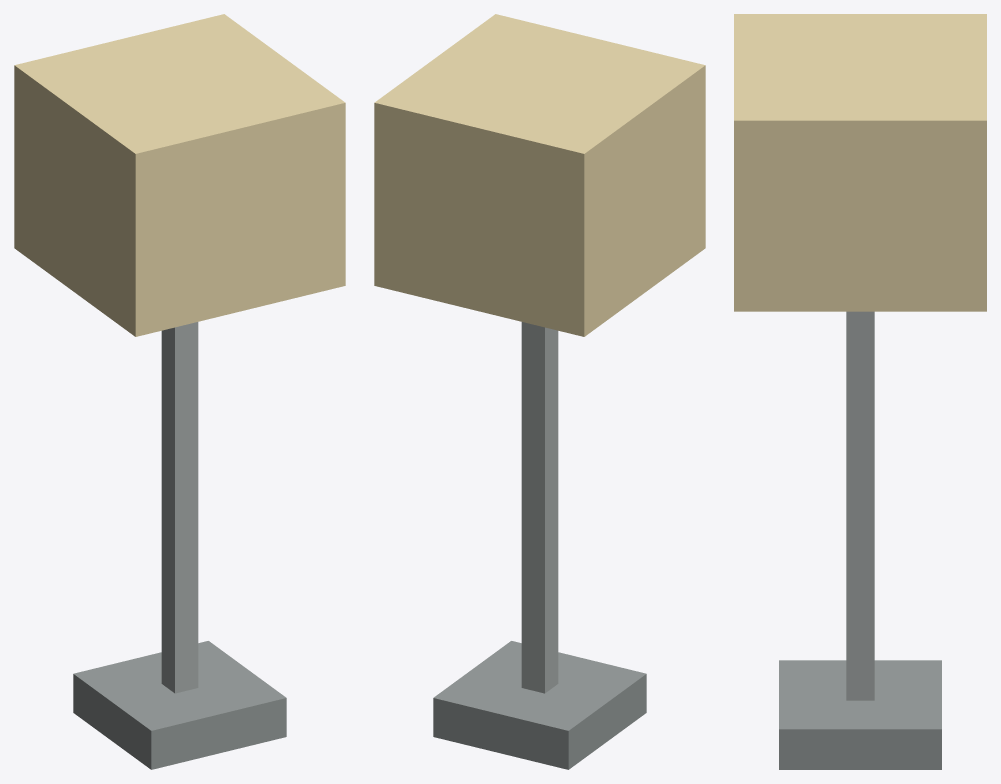
File: floor-lamp.glb
The picture shows the model from 3 angles, left to right: view 1: azimuth 30°, elevation 25°; view 2: azimuth 150°, elevation 25°; view 3: azimuth 270°, elevation 25°; orthographic projection. The views are drawn at different scales.
Parts seen in each view (by area): view 1: lamp-shade, lamp-base, lamp-post; view 2: lamp-shade, lamp-base, lamp-post; view 3: lamp-shade, lamp-base, lamp-post.
Part boxes in pixels (<box>): lamp-shade: <box>14,14,345,336</box>; lamp-base: <box>73,641,286,769</box>; lamp-post: <box>161,322,198,693</box>; lamp-shade: <box>374,14,705,336</box>; lamp-base: <box>433,641,646,769</box>; lamp-post: <box>521,322,558,693</box>; lamp-shade: <box>734,14,986,311</box>; lamp-base: <box>779,660,941,769</box>; lamp-post: <box>846,311,874,700</box>.
Bounding box in the file's own units: 0.9 × 2.62 × 0.9.
